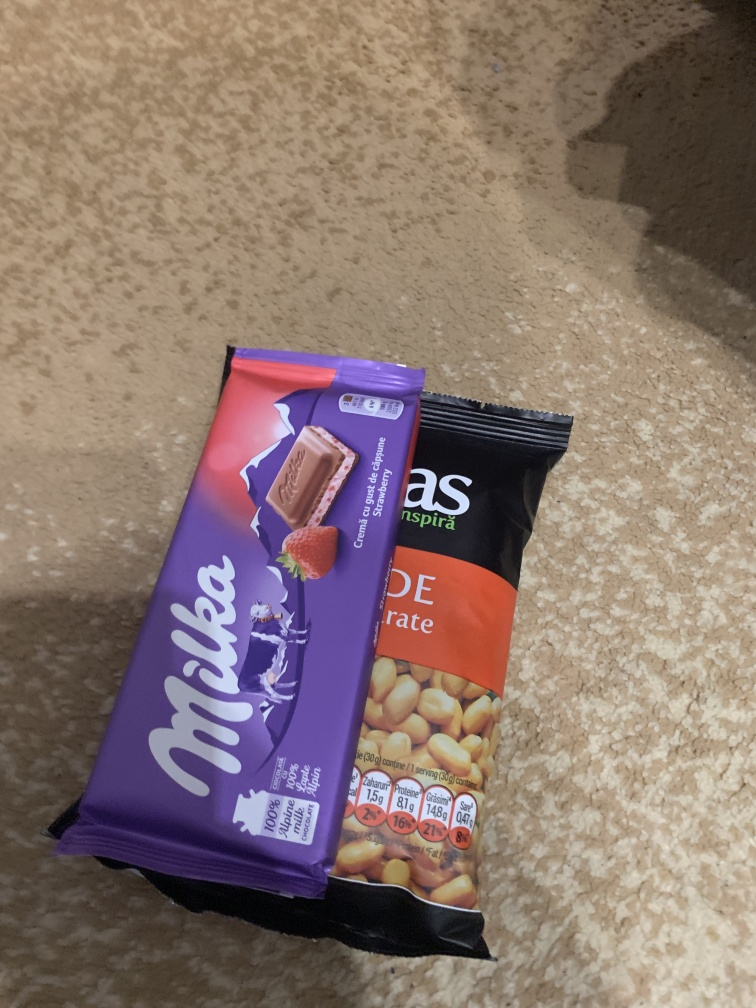milka: (50, 340, 424, 887)
peanuts: (323, 376, 582, 945)
